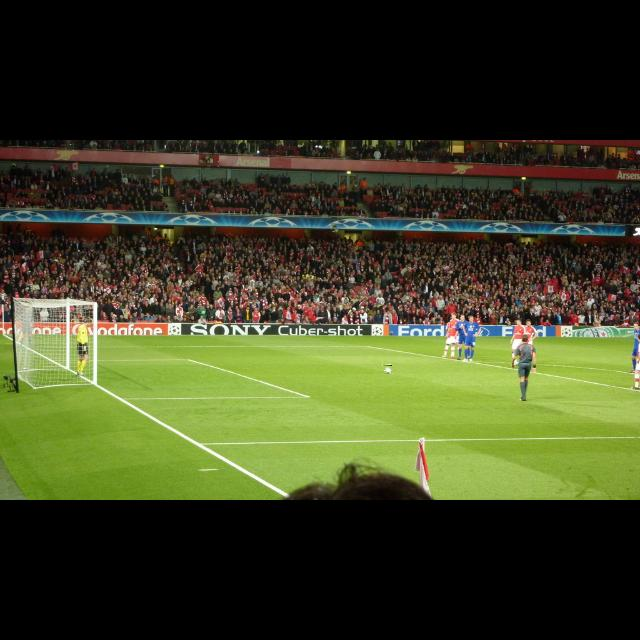Football: (382, 365, 392, 371)
